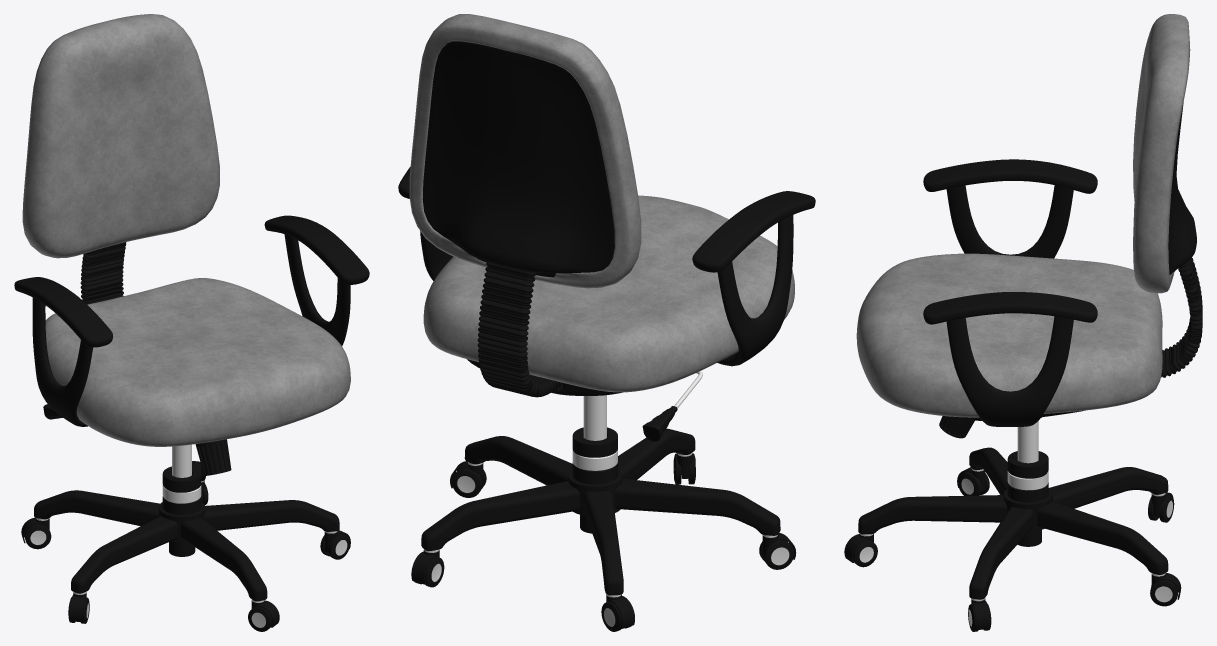
The model's file is chair office .fbx.
The picture shows the model from 3 angles, left to right: view 1: azimuth 30°, elevation 25°; view 2: azimuth 150°, elevation 25°; view 3: azimuth 270°, elevation 25°; orthographic projection. The views are drawn at different scales.
Visible parts, largest first — view 1: Office Chair_REX.001; view 2: Office Chair_REX.001; view 3: Office Chair_REX.001.
Boxes of the visible parts, x1,y1,x2,y2 form: Office Chair_REX.001: (14,14,369,631); Office Chair_REX.001: (398,14,815,631); Office Chair_REX.001: (844,14,1202,631).
Bounding box in the file's own units: 62.43 × 104 × 63.83.
4 materials, 1 textured.
